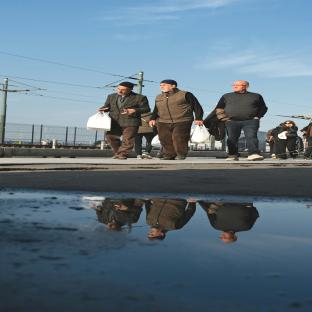Human: (149, 80, 203, 160), (216, 80, 267, 160), (98, 82, 150, 160)
